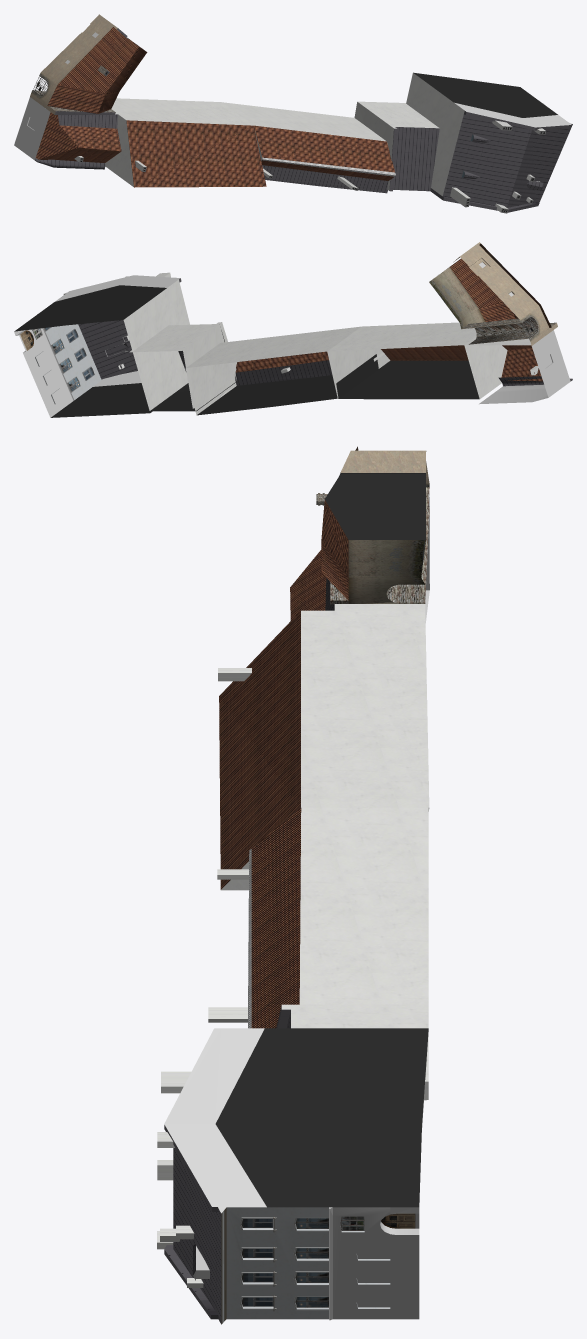
File: Lai_25.obj
3 renders of one model, top to bottom at view 1: azimuth 30°, elevation 25°; view 2: azimuth 150°, elevation 25°; view 3: azimuth 270°, elevation 25°, orthographic. The views are drawn at different scales.
Visible parts, largest first — view 1: Lai_25; view 2: Lai_25; view 3: Lai_25.
Boxes of the visible parts, x1,y1,x2,y2 form: Lai_25: (14,14,572,213); Lai_25: (14,242,572,417); Lai_25: (157,446,429,1324).
Size of the model in its own units: 87.26 by 40.87 by 20.33.
